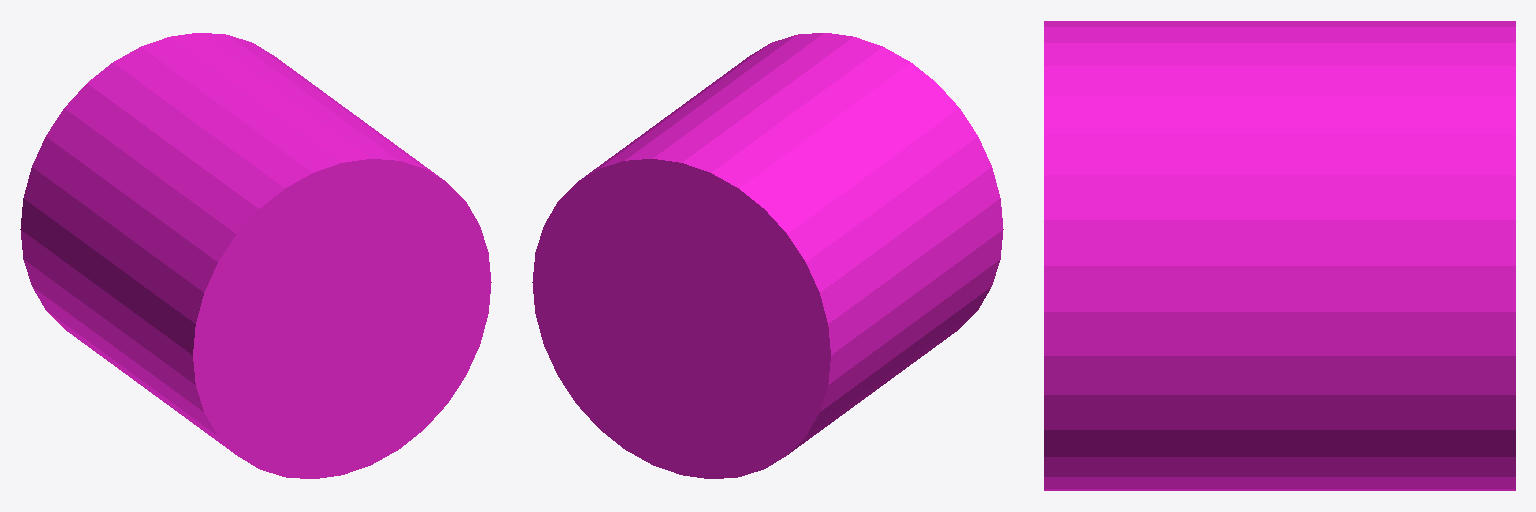
The robot description file, URDF, robot "pan_tilt":
<?xml version="1.0"?>
<robot name="pan_tilt">

  <link name="base_assembly">
    <visual>
      <origin xyz="0.0 0.0 0.0" rpy="0.0 0.0 0.0"/>
      <geometry>
        <mesh filename="package://pan_tilt_desc/stl/pt_1.0/pt_base_assembly.stl"
            scale="0.001 0.001 0.001" />
      </geometry>
      <material name="tangerine">
        <color rgba="0.95 0.52 0.0 0.95"/>
      </material>
    </visual>
  </link>

  <link name="pan_assembly">
    <visual>
      <!-- <origin xyz="-0.018 -0.031 -0.13" rpy="0.0 0.0 0.0"/> -->
      <origin xyz="0.0 0.0 0.0475" rpy="0.0 0.0 0.0"/>
      <geometry>
        <mesh filename="package://pan_tilt_desc/stl/pt_1.0/pt_pan_assembly.stl" 
            scale="0.001 0.001 0.001" />
      </geometry>
      <material name="tangerine">
        <color rgba="0.95 0.52 0.0 0.95"/>
      </material>
    </visual>
  </link>

  <link name="tilt_assembly">
    <visual>
      <origin xyz="0.0 0.0 0.0" rpy="0.0 0.0 1.5708"/>
      <geometry>
        <mesh filename="package://pan_tilt_desc/stl/pt_1.0/pt_tilt_assembly.stl"
            scale="0.001 0.001 0.001" />
      </geometry>
      <material name="tangerine">
        <color rgba="0.95 0.52 0.0 0.95"/>
      </material>
    </visual>
  </link>

  <!-- Change to end-effector/sensor in use as needed -->
  <link name="tool_fake">
    <visual>
      <origin xyz="0.0 0.0 0.044975" rpy="1.5708 0.0 0.0"/>
      <geometry>
        <cylinder radius="5.0" length="10.0" />
      </geometry>
      <material name="purps">
        <color rgba="1.0 0.2 0.9 0.0"/>
      </material>
    </visual>
  </link>

  <joint name="pan" type="revolute">
    <origin xyz="0 0 0" rpy="0 0 0"/>
    <axis xyz="0 0 1"/>
    <parent link="base_assembly"/>
    <child link="pan_assembly"/>

    <!-- velocity 80 deg/sec, range(deg) [-150.0, 150.0]-->
    <limit effort="90" velocity="1.396" lower="-2.618" upper="2.618" />
  </joint>

  <joint name="tilt" type="revolute">
    <origin xyz="0 0 0.067" rpy="0 0 0"/>
    <axis xyz="0 1 0"/>
    <parent link="pan_assembly"/>
    <child link="tilt_assembly"/>

    <!-- velocity 80 deg/sec, range(deg) [-150.0, 150.0]-->
    <limit effort="90" velocity="1.396" lower="-2.618" upper="2.618" />
  </joint>

  <joint name="tool" type="fixed">
    <origin xyz="0 0 0" rpy="0 0 0"/>
    <axis xyz="0 0 0"/>
    <parent link="tilt_assembly"/>
    <child link="tool_fake"/>
  </joint>


  <!-- Platform Spec HERE -->

</robot>

--- Render facts (derived) ---
3 views of the same robot in one strip: view 1: azimuth 30°, elevation 25°; view 2: azimuth 150°, elevation 25°; view 3: azimuth 270°, elevation 25° (orthographic).
Robot: pan_tilt — 4 links, 3 joints (2 revolute, 1 fixed); root link base_assembly; default pose: all joints at 0.
Links seen in each view (by area): view 1: tool_fake; view 2: tool_fake; view 3: tool_fake.
Link boxes in pixels (bbox=[...]): tool_fake: bbox=[20, 33, 491, 478]; tool_fake: bbox=[532, 33, 1003, 478]; tool_fake: bbox=[1044, 21, 1515, 490].
Size in the robot's own frame: 10 by 10 by 10 metres.
Meshes: 3 distinct files referenced, 3 mesh visuals loaded (3 binary STL).